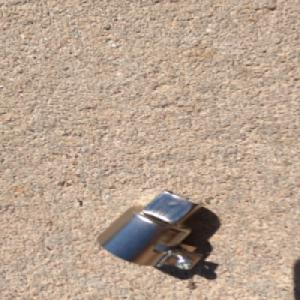MetalPart: (94, 188, 206, 271)
